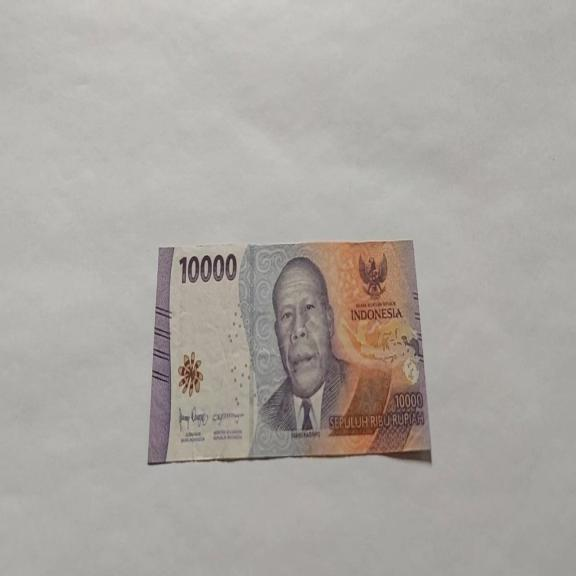Kertas: (147, 239, 432, 466), (178, 250, 238, 285)
